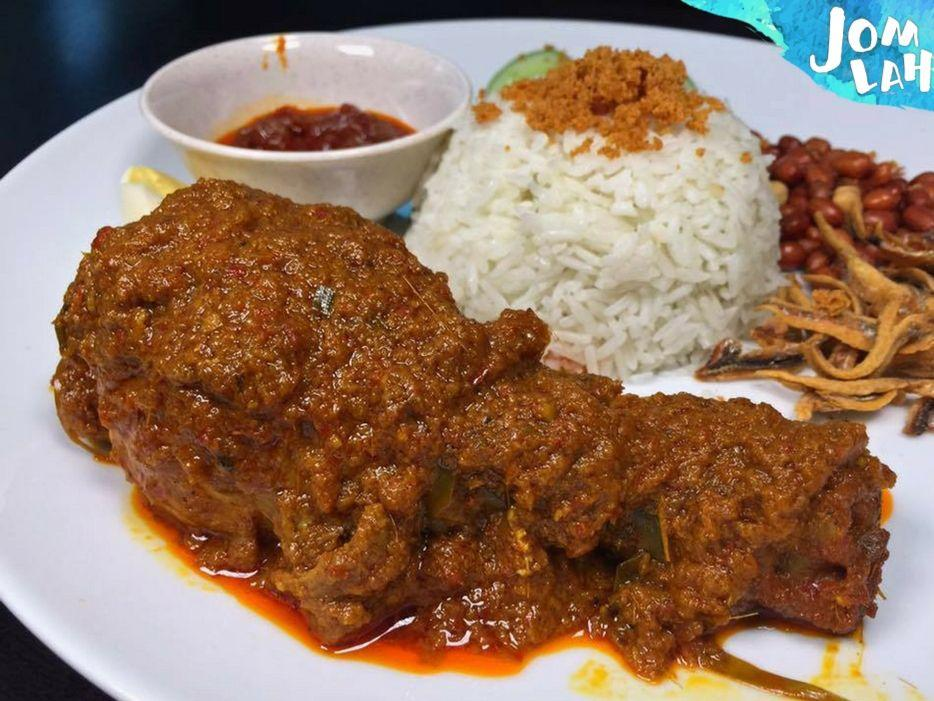Anchovies: (696, 223, 934, 421)
Cucumber: (479, 46, 573, 95)
Peanuts: (770, 137, 934, 270)
Rendang-Chicken: (49, 180, 897, 681)
Rice: (425, 102, 786, 387)
Sambal: (215, 111, 409, 152)
